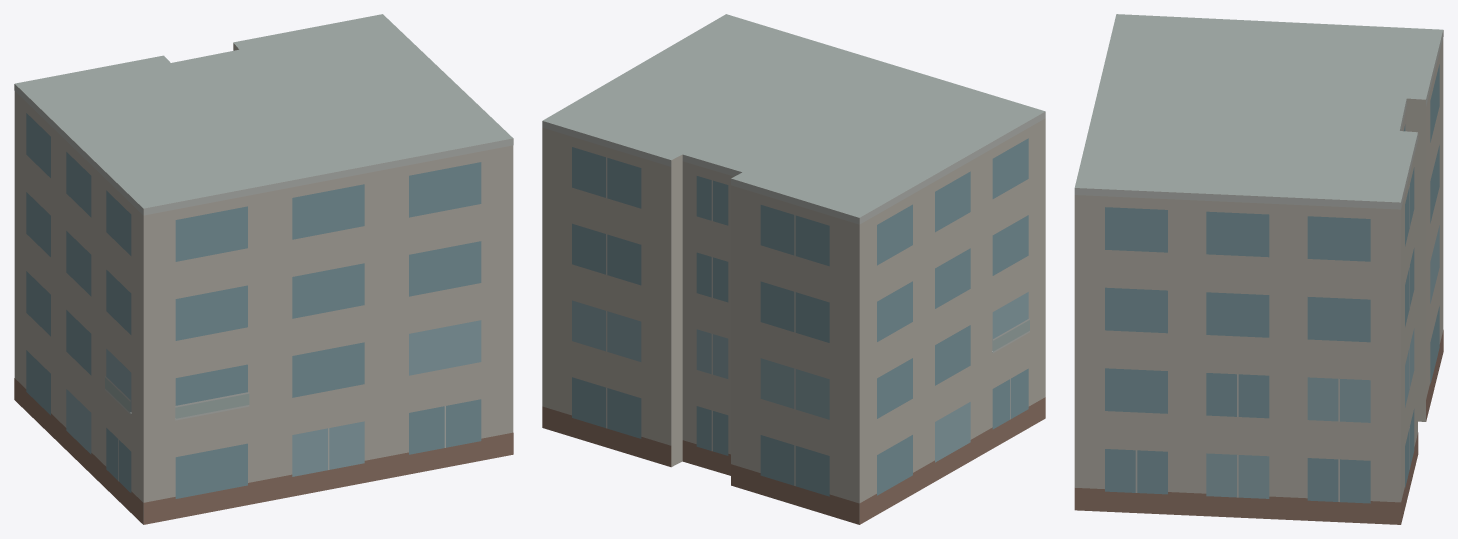
Rendered from survey-upis-32670740.glb.
The picture shows the model from 3 angles, left to right: view 1: azimuth 30°, elevation 25°; view 2: azimuth 150°, elevation 25°; view 3: azimuth 270°, elevation 25°; orthographic projection. The views are drawn at different scales.
Parts seen in each view (by area): view 1: survey-upis-32670740.tmp; view 2: survey-upis-32670740.tmp; view 3: survey-upis-32670740.tmp.
Boxes of the visible parts, box(x1,y1,x2,y2) form: survey-upis-32670740.tmp: box(14, 14, 513, 524); survey-upis-32670740.tmp: box(542, 14, 1045, 524); survey-upis-32670740.tmp: box(1074, 14, 1443, 524).
Bounding box in the file's own units: 13.93 × 11.1 × 11.52.
